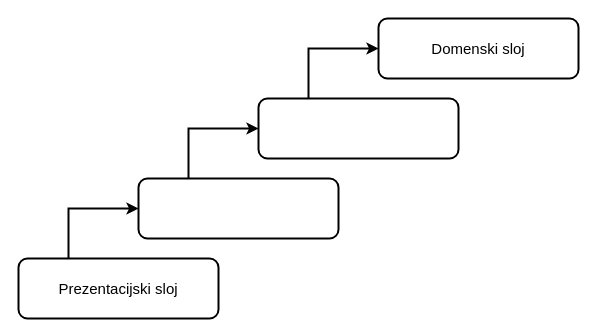
Some shapes in this 596 by 336 pixel diagram are drawn without their labels. The centre of each missing label's shape, as x and y in pixels:
"Aplikacijski sloj" belongs at point (358, 128).
"Infrastrukturni sloj" belongs at point (238, 208).
